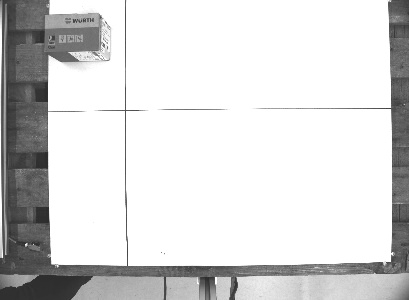b4: (42, 12, 113, 64)
